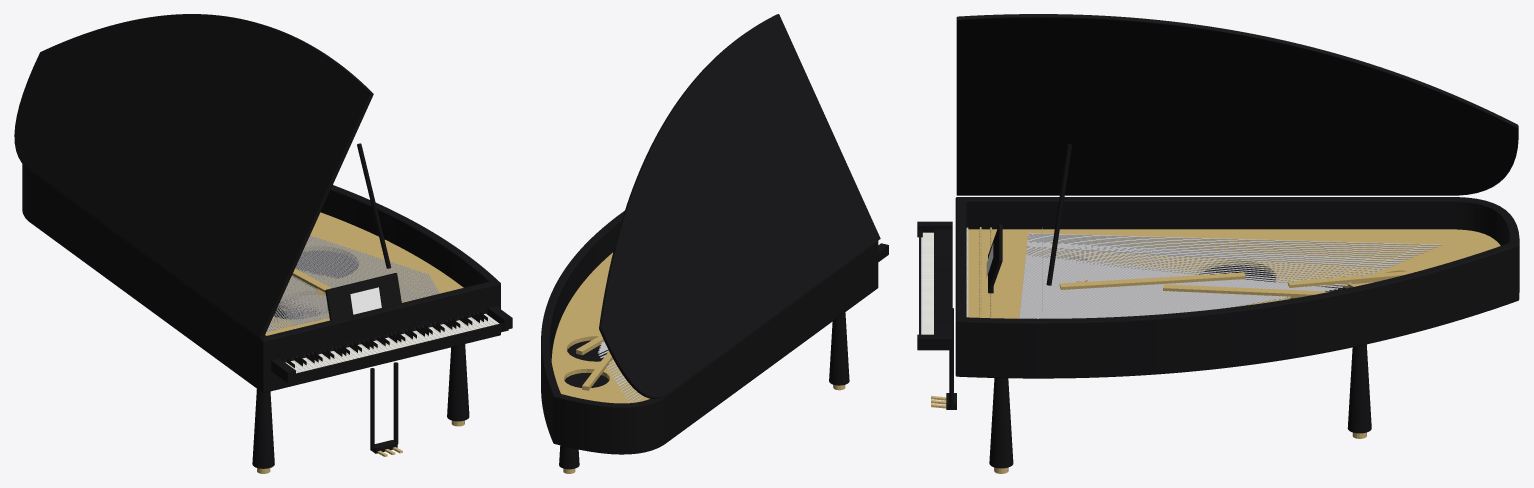
File: grand_piano.glb
The picture shows the model from 3 angles, left to right: view 1: azimuth 30°, elevation 25°; view 2: azimuth 150°, elevation 25°; view 3: azimuth 270°, elevation 25°; orthographic projection. The views are drawn at different scales.
Parts seen in each view (by area): view 1: Piano_Lid, Piano_Body, Strings, CastIron_Frame, KB_Keyslip, Keys_White, MusicDesk, Keys_Black, Leg_FrontLeft, Leg_FrontRight, Lid_Prop, SheetMusic; view 2: Piano_Lid, Piano_Body, CastIron_Frame, Leg_FrontLeft, Frame_Struts, Strings, Leg_Back; view 3: Piano_Lid, Piano_Body, Strings, CastIron_Frame, Frame_Struts, Keys_Black, Leg_FrontRight, Leg_Back, Keys_White, Lid_Prop, MusicDesk.
Part boxes in pixels (x1,y1,x2,y2): Piano_Lid: [14, 14, 373, 339]; Piano_Body: [22, 164, 500, 392]; Strings: [266, 235, 440, 331]; CastIron_Frame: [265, 212, 463, 335]; KB_Keyslip: [289, 323, 508, 383]; Keys_White: [285, 313, 499, 373]; MusicDesk: [325, 273, 401, 320]; Keys_Black: [284, 311, 487, 368]; Leg_FrontLeft: [252, 389, 274, 468]; Leg_FrontRight: [447, 344, 469, 421]; Lid_Prop: [357, 143, 391, 268]; SheetMusic: [350, 287, 381, 314]; Piano_Lid: [599, 14, 880, 398]; Piano_Body: [541, 210, 878, 454]; CastIron_Frame: [551, 252, 649, 403]; Leg_FrontLeft: [829, 312, 849, 385]; Frame_Struts: [576, 335, 612, 390]; Strings: [598, 341, 643, 402]; Leg_Back: [559, 445, 579, 469]; Piano_Lid: [956, 14, 1518, 195]; Piano_Body: [955, 197, 1519, 378]; Strings: [1019, 233, 1442, 318]; CastIron_Frame: [968, 229, 1500, 318]; Frame_Struts: [1059, 269, 1423, 298]; Keys_Black: [934, 229, 952, 334]; Leg_FrontRight: [989, 378, 1013, 468]; Leg_Back: [1347, 344, 1371, 433]; Keys_White: [922, 232, 933, 334]; Lid_Prop: [1046, 144, 1072, 285]; MusicDesk: [988, 224, 1002, 292].
Bounding box in the file's own units: 1.46 × 2.14 × 2.91.
